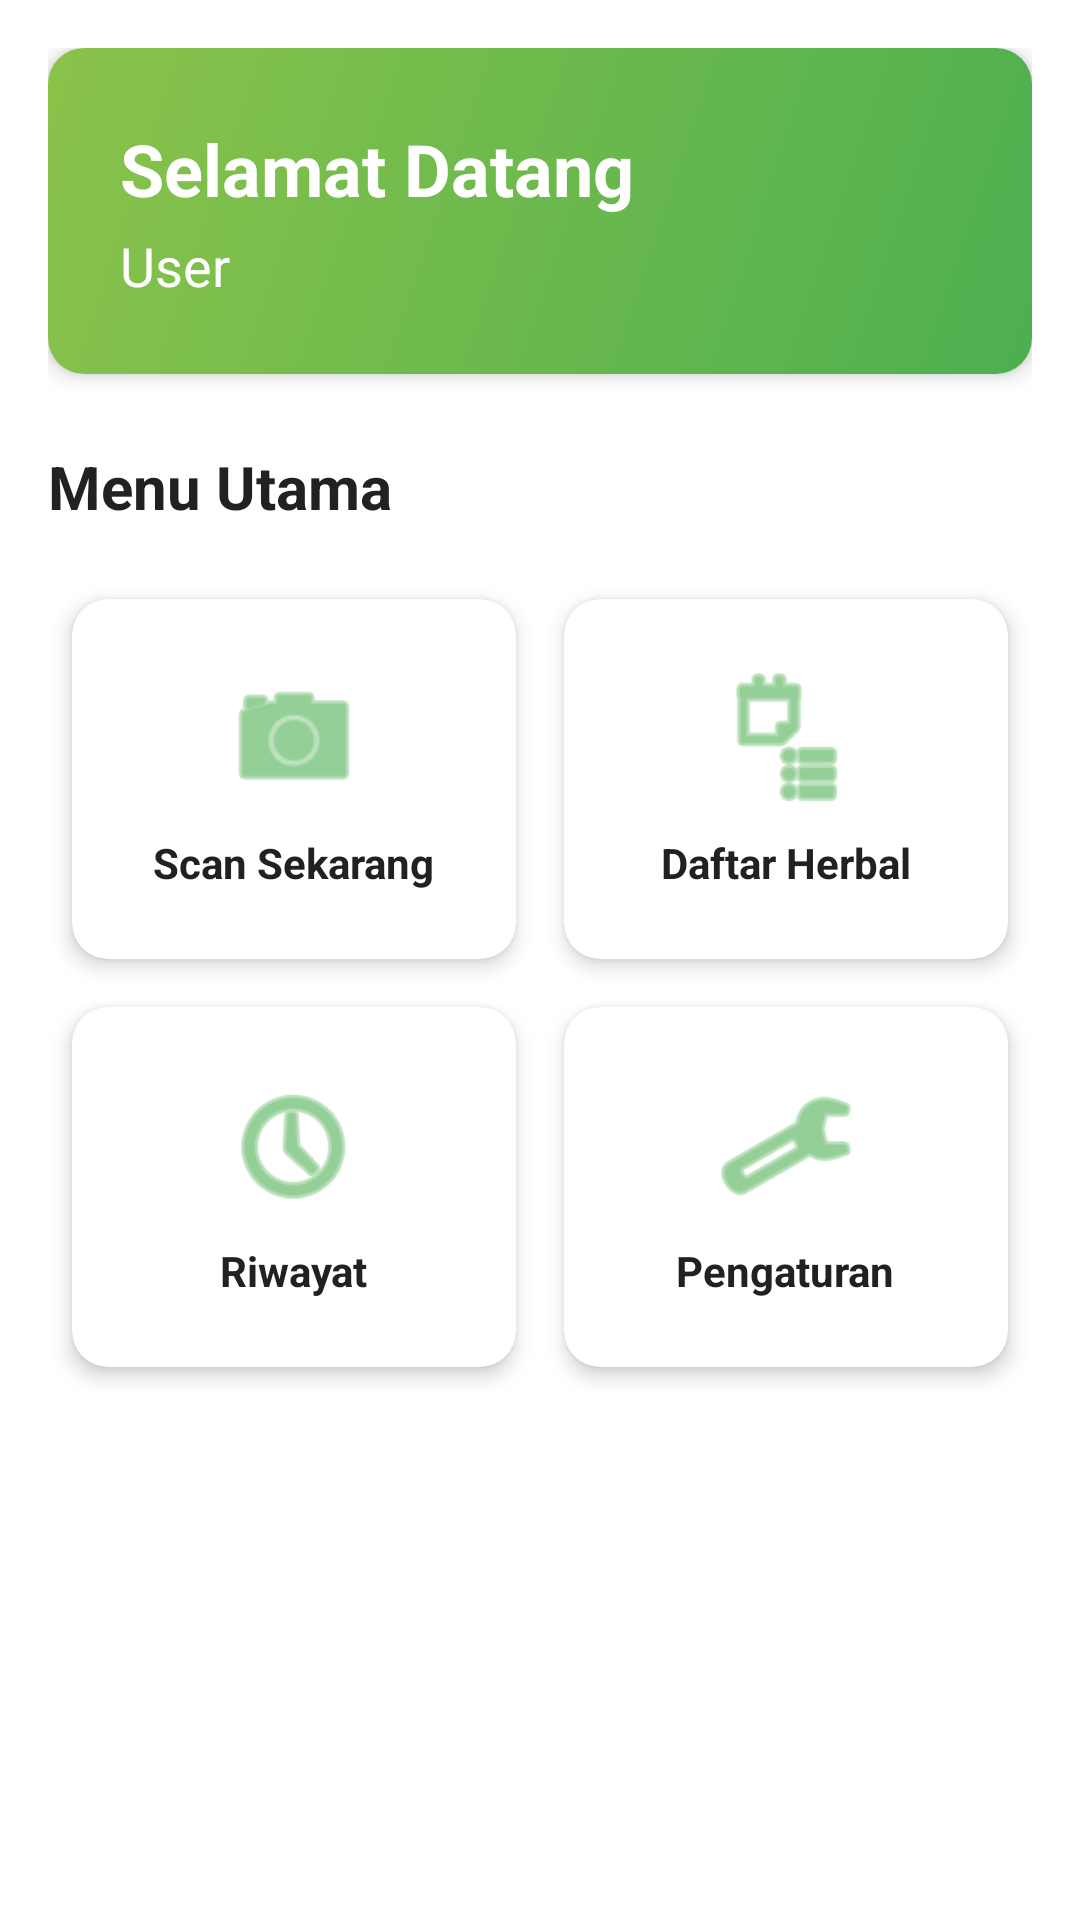

Icons on this 1080x1920 Android screen, each with its box as [left=x1, top=y1, right=x2, bottom=y2]:
Herbal List: [left=736, top=673, right=837, bottom=801]
History: [left=241, top=1095, right=345, bottom=1199]
Settings: [left=721, top=1097, right=851, bottom=1195]
